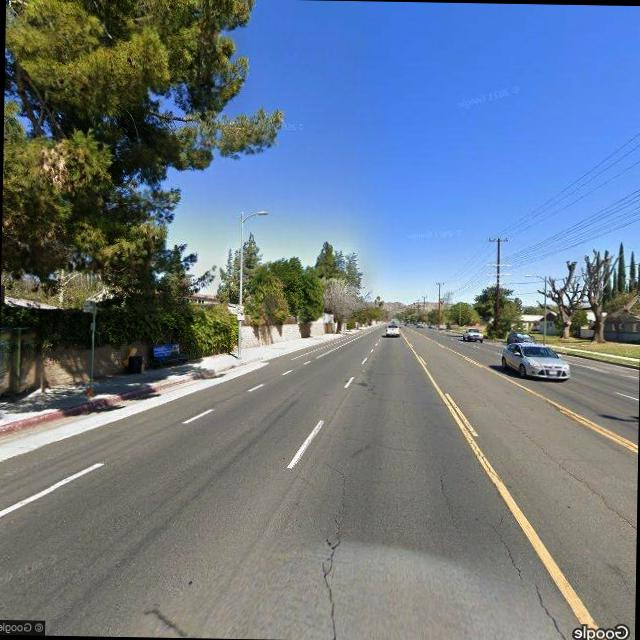pothole: (475, 482, 576, 640), (322, 462, 350, 640), (434, 463, 454, 522)
